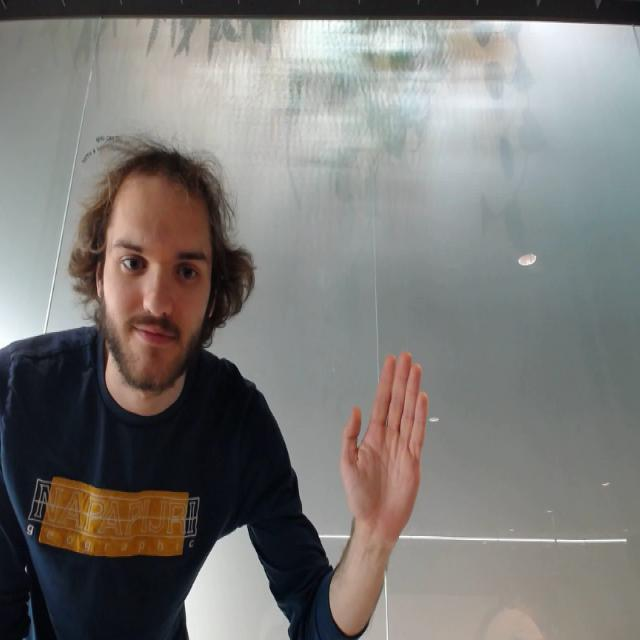backward: (338, 345, 432, 550)
